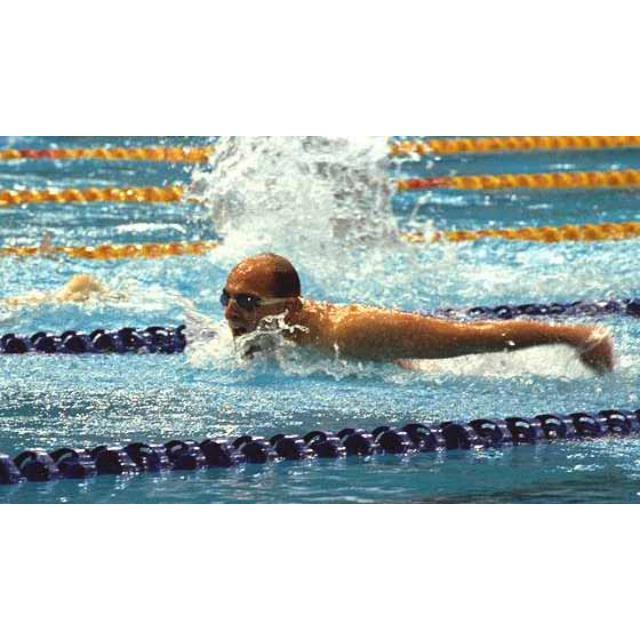human: (211, 252, 619, 383)
